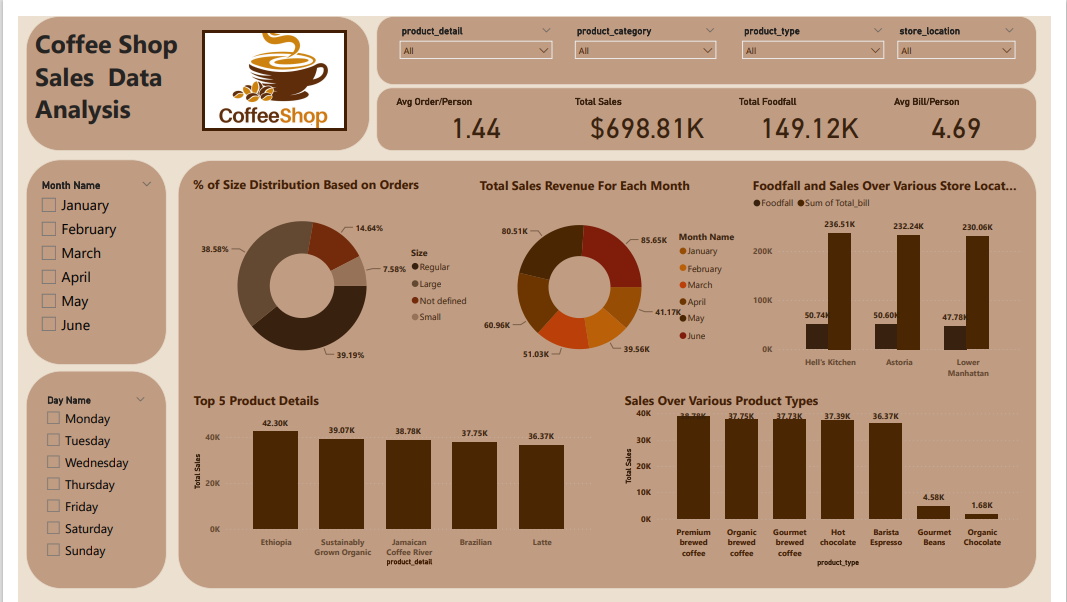

The page's visual inventory and layout, read from the dashboard file:
{"tool":"powerbi","page":{"name":"Page 2","canvas":[1550,880],"ordinal":1},"visuals":[{"type":"shape","box":[239.7,215.5,1289.7,643.1],"z":0},{"type":"shape","box":[537.9,106.9,991.4,94.8],"z":1000},{"type":"shape","box":[537.9,0,991.4,103.4],"z":2000},{"type":"shape","box":[12.1,214.8,211.3,308.3],"z":3000},{"type":"shape","box":[12.1,531.8,211.3,327.4],"z":4000},{"type":"slicer","fields":{"Values":["Transactions.Day Name"]},"box":[31.2,563,171.5,265],"z":5000},{"type":"slicer","fields":{"Values":["Transactions.Month Name"]},"box":[22.5,239.1,190.6,259.8],"z":6000},{"type":"slicer","fields":{"Values":["Transactions.product_category"]},"box":[826.3,8.7,232.1,78],"z":7000},{"type":"slicer","fields":{"Values":["Transactions.product_type"]},"box":[1077.5,8.7,218.3,78],"z":8000},{"type":"slicer","fields":{"Values":["Transactions.store_location"]},"box":[1309.6,8.7,197.5,78],"z":9000},{"type":"card","title":"Total Sales","fields":{"Values":["Transactions.Sales"]},"box":[831.5,119.5,226.9,72.8],"z":10000},{"type":"card","title":"Total Foodfall","fields":{"Values":["Transactions.Foodfall"]},"box":[1077.5,119.5,221.7,72.8],"z":11000},{"type":"card","title":"Avg Bill/Person","fields":{"Values":["Transactions.Measure"]},"box":[1309.6,119.5,197.5,72.8],"z":12000},{"type":"card","title":"Avg Order/Person","fields":{"Values":["Transactions.Average_Order"]},"box":[563,119.5,249.4,72.8],"z":13000},{"type":"slicer","fields":{"Values":["Transactions.product_detail"]},"box":[563,8.7,249.4,78],"z":14000},{"type":"shape","box":[12.1,0,515.5,201.7],"z":15000},{"type":"textbox","box":[20.7,10.3,241.4,181],"z":16000},{"type":"image","box":[275.9,20.7,217.2,151.7],"z":17000},{"type":"pieChart","title":"% of Size Distribution Based on Orders","fields":{"Category":["Transactions.Size"],"Y":["CountNonNull(Transactions.transaction_id)"]},"box":[258.6,239.7,608.6,310.3],"z":18000},{"type":"clusteredColumnChart","title":"Foodfall and Sales Over Various Store Locations","fields":{"Category":["Transactions.store_location"],"Y":["CountNonNull(Transactions.transaction_id)","Sum(Transactions.Total_bill)"]},"box":[884.5,241.4,624.1,308.6],"z":19000},{"type":"columnChart","title":"Top 5 Product Details","fields":{"Category":["Transactions.product_detail"],"Y":["Sum(Transactions.Total_bill)"]},"box":[258.6,563.8,608.6,265.5],"z":20000},{"type":"columnChart","title":"Sales Over Various Product Types","fields":{"Y":["Sum(Transactions.Total_bill)"],"Category":["Transactions.product_type"]},"box":[905.2,563.8,624.1,265.5],"z":21000}]}

Visuals, with their boxes in screenshot pixels (x1, y1, x2, y2), scaled from the page's 1550x880 canvas onto the 1067x602 screenshot:
shape: left=165, top=147, right=1053, bottom=587
shape: left=370, top=73, right=1053, bottom=138
shape: left=370, top=0, right=1053, bottom=71
shape: left=8, top=147, right=154, bottom=358
shape: left=8, top=364, right=154, bottom=588
slicer - Transactions.Day Name: left=21, top=385, right=140, bottom=566
slicer - Transactions.Month Name: left=15, top=164, right=147, bottom=341
slicer - Transactions.product_category: left=569, top=6, right=729, bottom=59
slicer - Transactions.product_type: left=742, top=6, right=892, bottom=59
slicer - Transactions.store_location: left=902, top=6, right=1037, bottom=59
"Total Sales" card: left=572, top=82, right=729, bottom=132
"Total Foodfall" card: left=742, top=82, right=894, bottom=132
"Avg Bill/Person" card: left=902, top=82, right=1037, bottom=132
"Avg Order/Person" card: left=388, top=82, right=559, bottom=132
slicer - Transactions.product_detail: left=388, top=6, right=559, bottom=59
shape: left=8, top=0, right=363, bottom=138
textbox: left=14, top=7, right=180, bottom=131
image: left=190, top=14, right=339, bottom=118
"% of Size Distribution Based on Orders" pieChart: left=178, top=164, right=597, bottom=376
"Foodfall and Sales Over Various Store Locations" clusteredColumnChart: left=609, top=165, right=1039, bottom=376
"Top 5 Product Details" columnChart: left=178, top=386, right=597, bottom=567
"Sales Over Various Product Types" columnChart: left=623, top=386, right=1053, bottom=567
